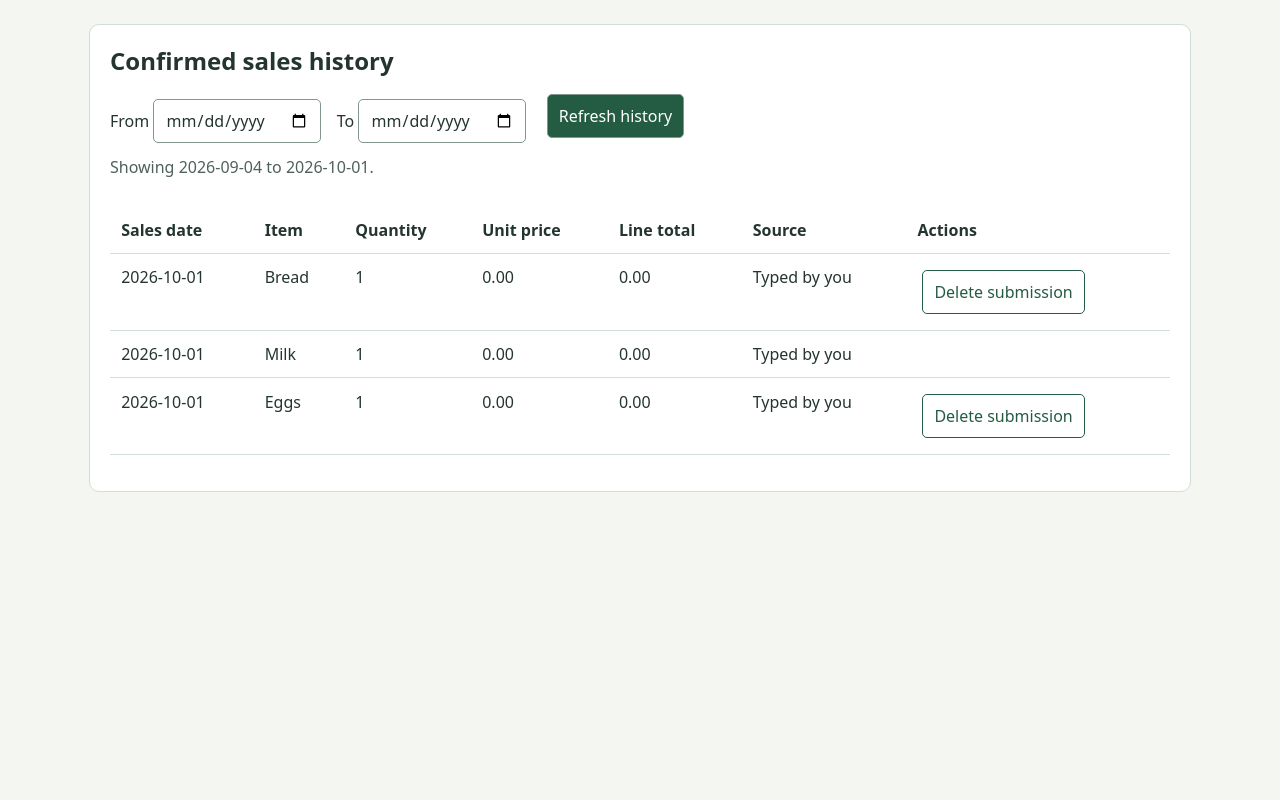
Test case: Confirmed sales ledger › deletes a submission only after DELETE is typed, and reports the count (FR-304)
The width and height of the screenshot is (1280, 800).
Step 1. Click the button with aria-label "Delete submission from 2026-10-01" → (1004, 292), box x1=922 y1=270 x2=1085 y2=314
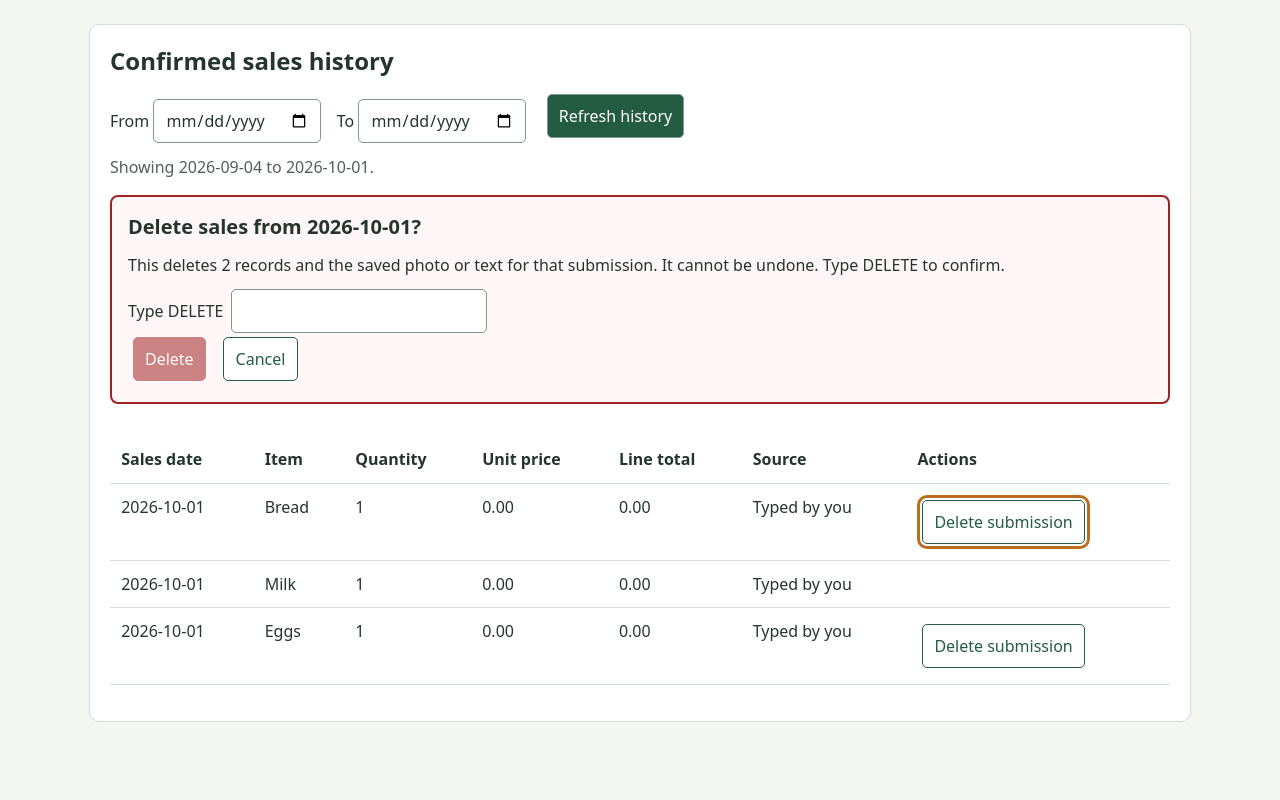
Expected: the text "This deletes 2 records" is shown, x1=128 y1=253 x2=1152 y2=277
Expected: the button "Delete" is disabled, x1=133 y1=337 x2=206 y2=381
Step 2. Type "delete" into the field labelled "Type DELETE" → (359, 311), box x1=231 y1=289 x2=487 y2=333
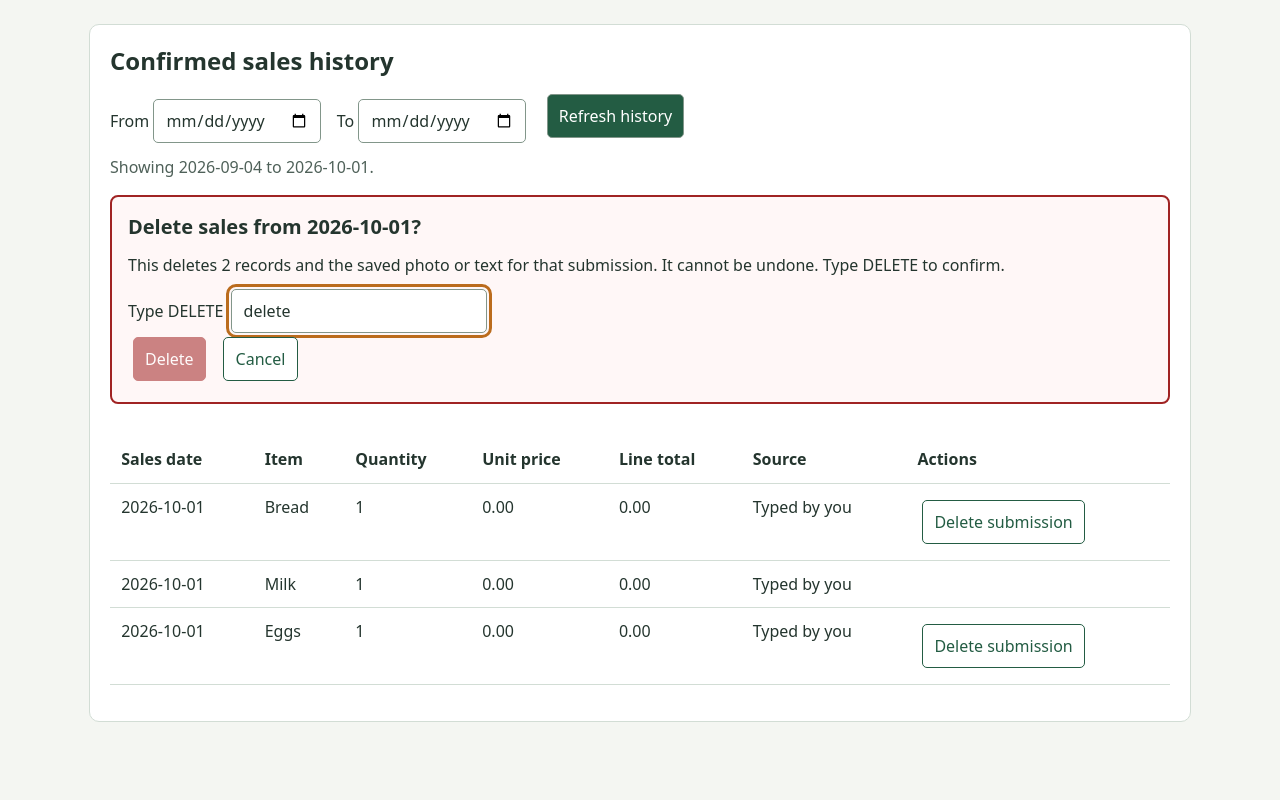
Expected: the button "Delete" is disabled, x1=133 y1=337 x2=206 y2=381
Step 3. Click the button "Cancel" → (260, 359), box x1=223 y1=337 x2=298 y2=381
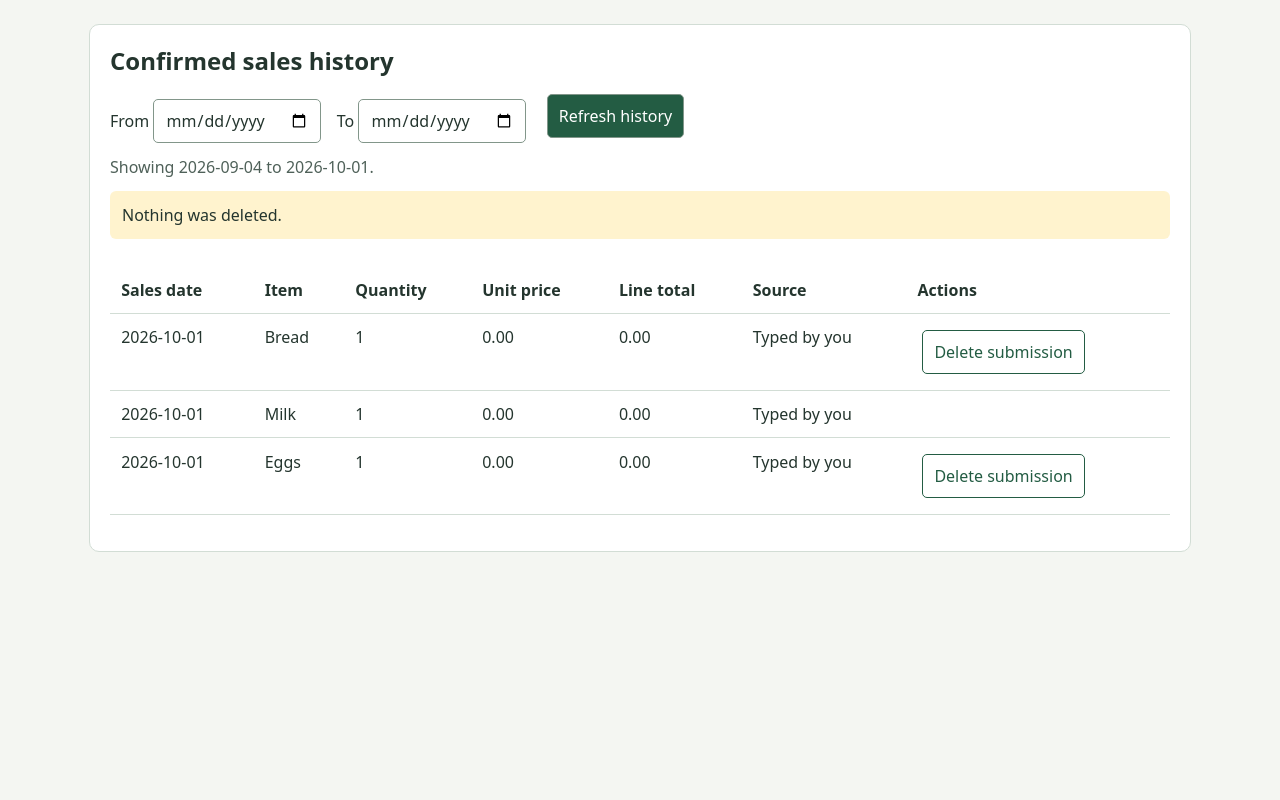
Expected: the message reads "Nothing was deleted.", x1=122 y1=204 x2=282 y2=226
Step 4. Click the button with aria-label "Delete submission from 2026-10-01" → (1004, 352), box x1=922 y1=330 x2=1085 y2=374
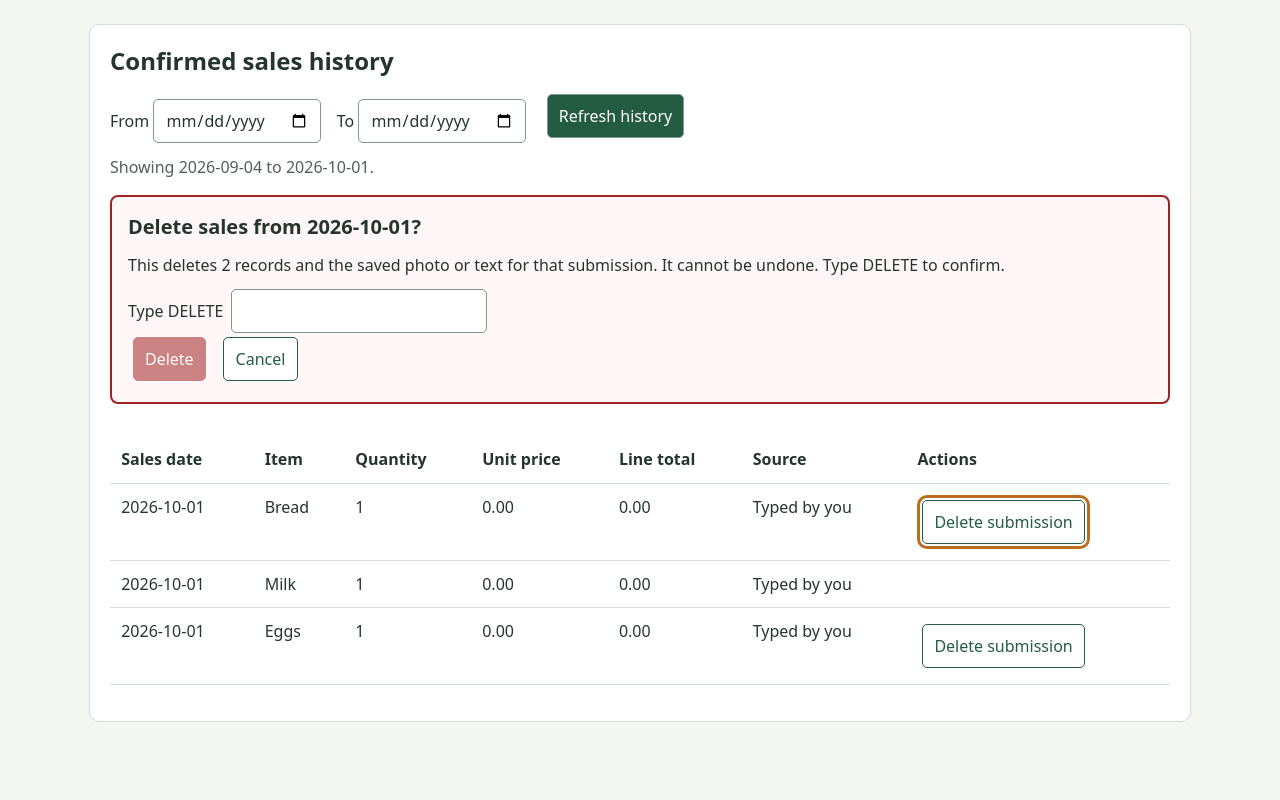
Step 5. Type "DELETE" into the field labelled "Type DELETE" → (359, 311), box x1=231 y1=289 x2=487 y2=333
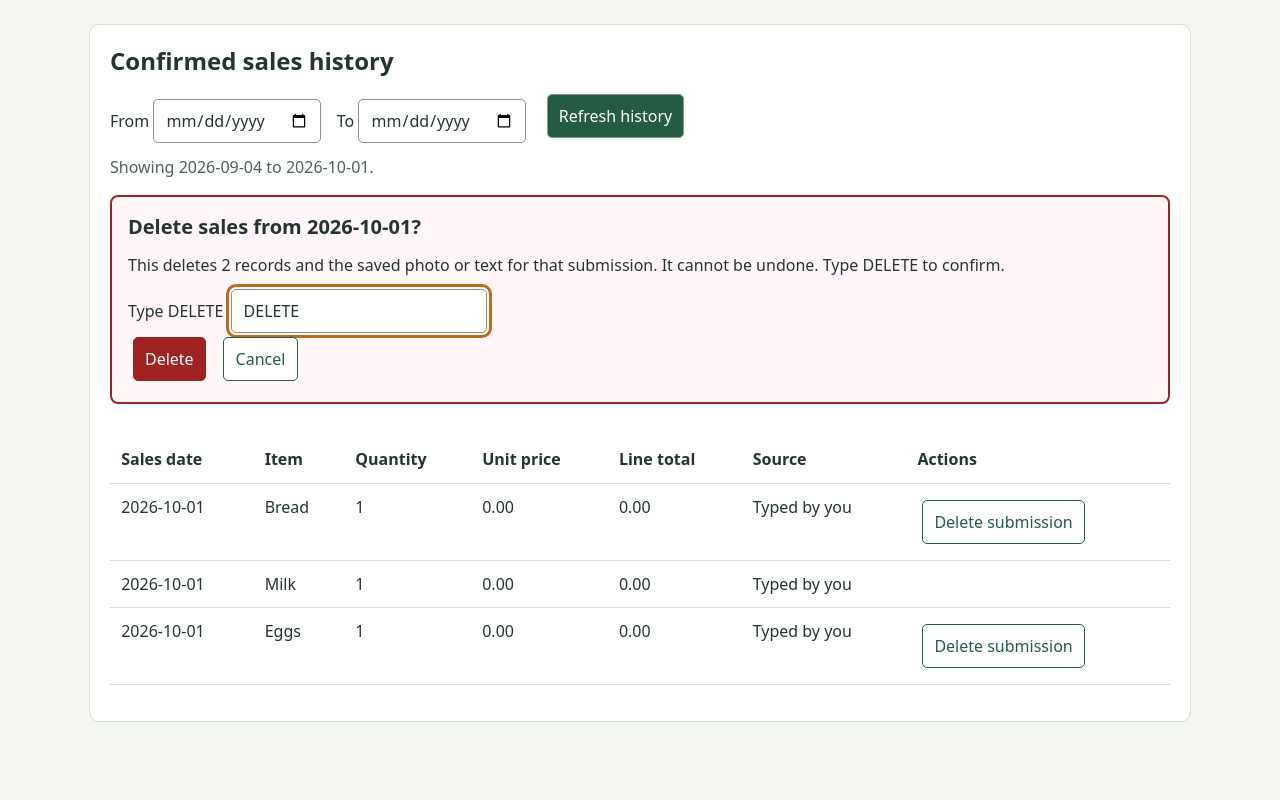
Step 6. Click the button "Delete" → (169, 359), box x1=133 y1=337 x2=206 y2=381
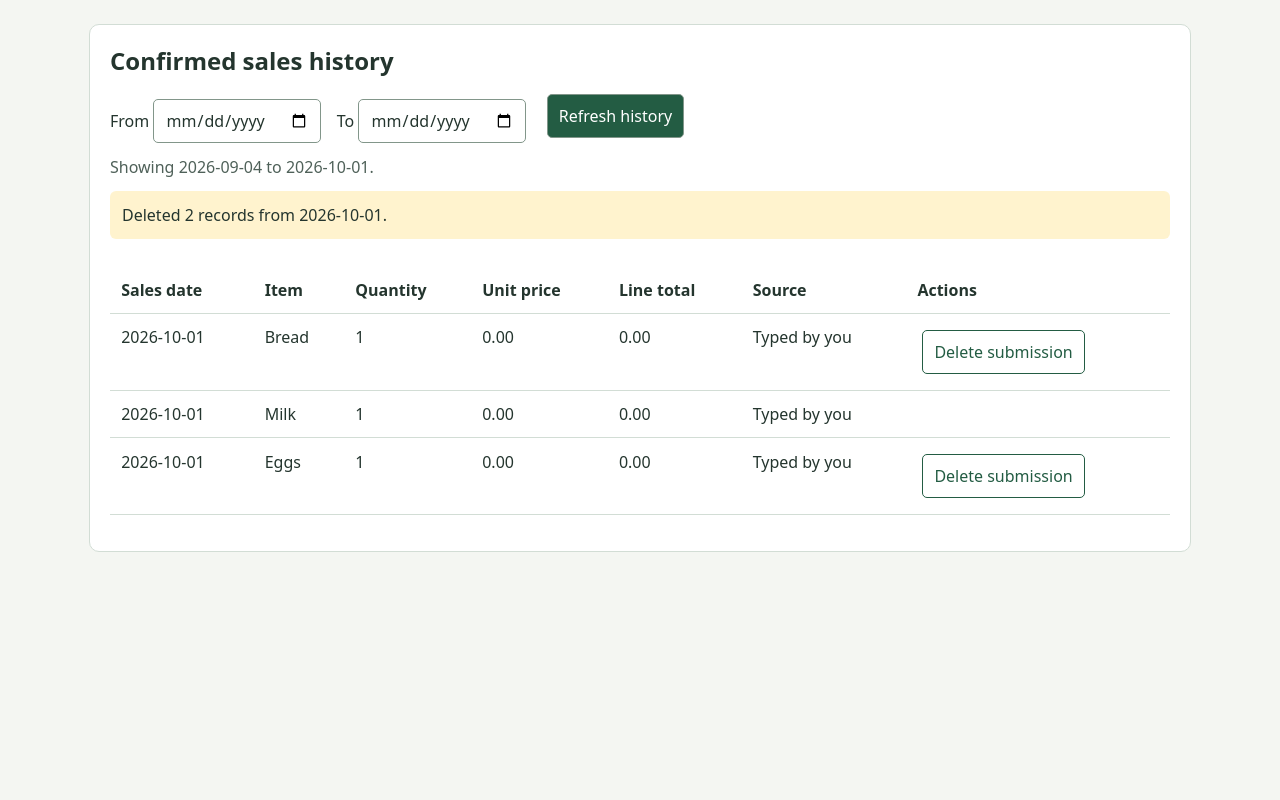
Expected: the text "Deleted 2 records from 2026-10-01." is shown, x1=110 y1=191 x2=1170 y2=239
